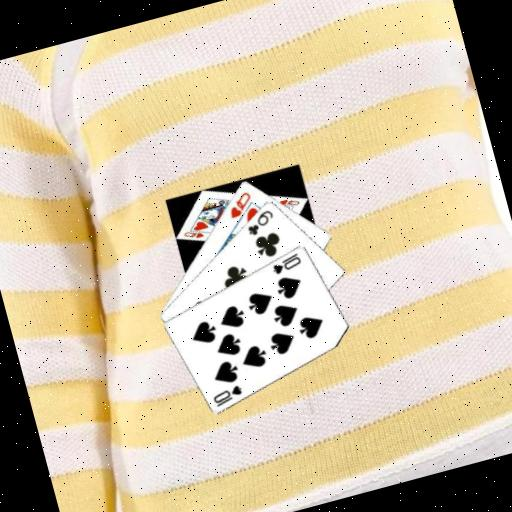10S: (266, 248, 304, 277), (208, 381, 246, 409)
6C: (240, 205, 278, 238)
QH: (222, 187, 257, 220)
